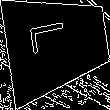L_E: (34, 25, 80, 64)
